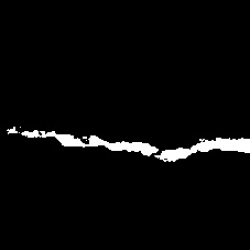crack: (5, 124, 246, 163)
